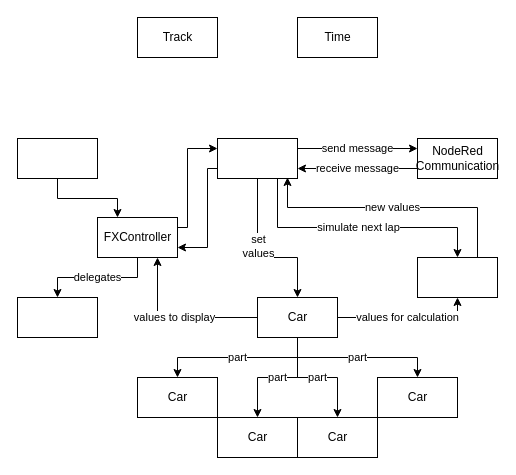
Image size: 516x475. Some labels were removed from this diagram. Here are the shapes that lost their labels. From the top down, the centre of each, then its label:
At point 57,158: "Application".
At point 257,158: "Controller".
At point 457,277: "Simulation".
At point 57,317: "FXController Delegation".
